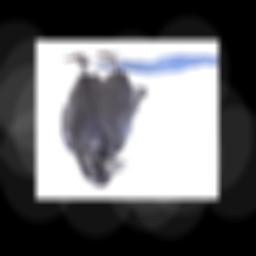Crow: (60, 51, 149, 189)
